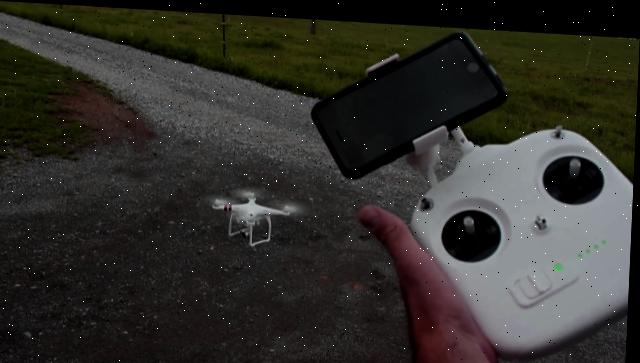drone: (209, 182, 301, 245)
